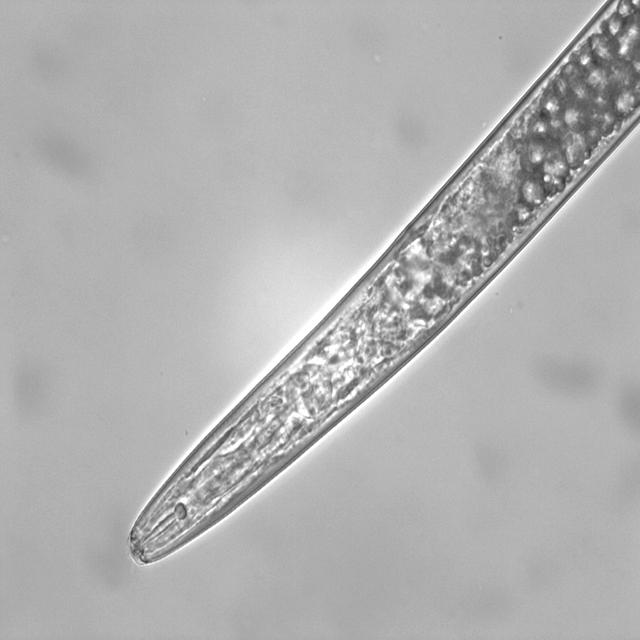Pratylenchus: (123, 0, 640, 577)
